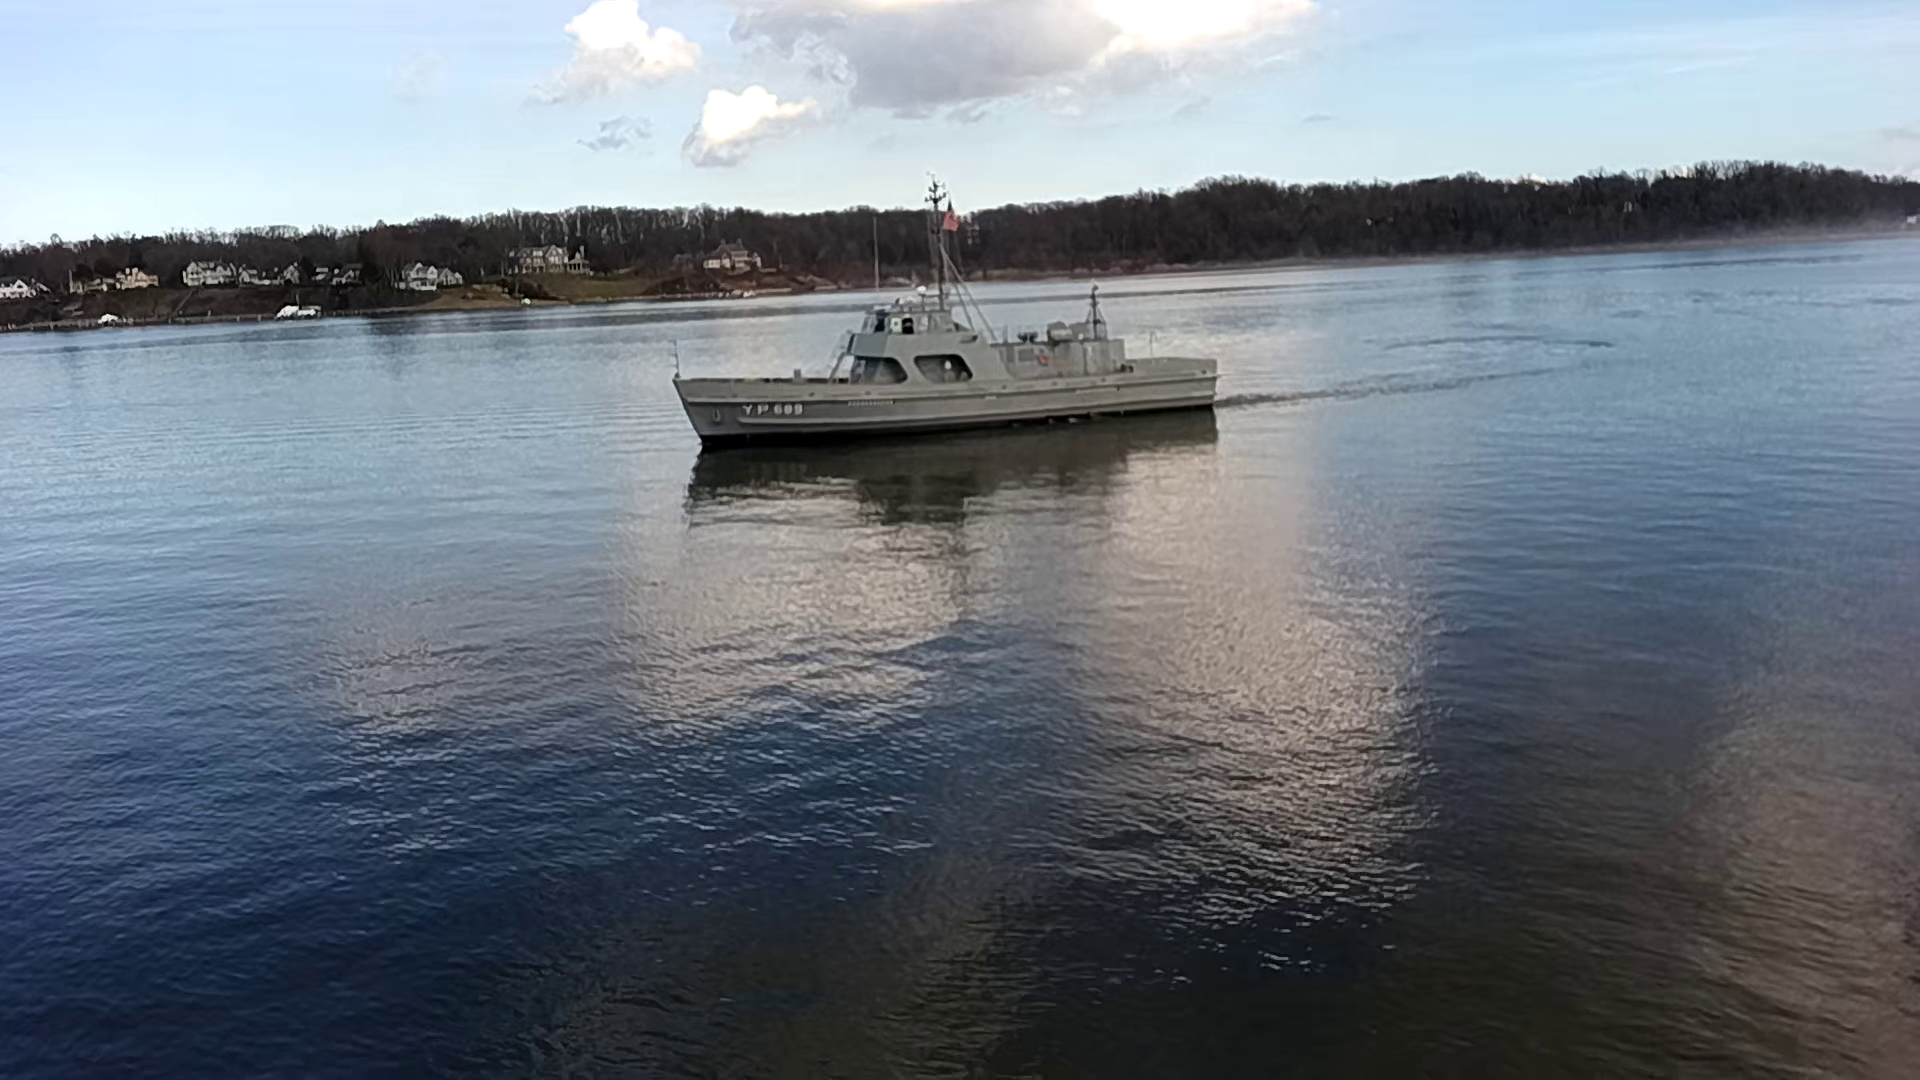YP689: (669, 167, 1222, 444)
